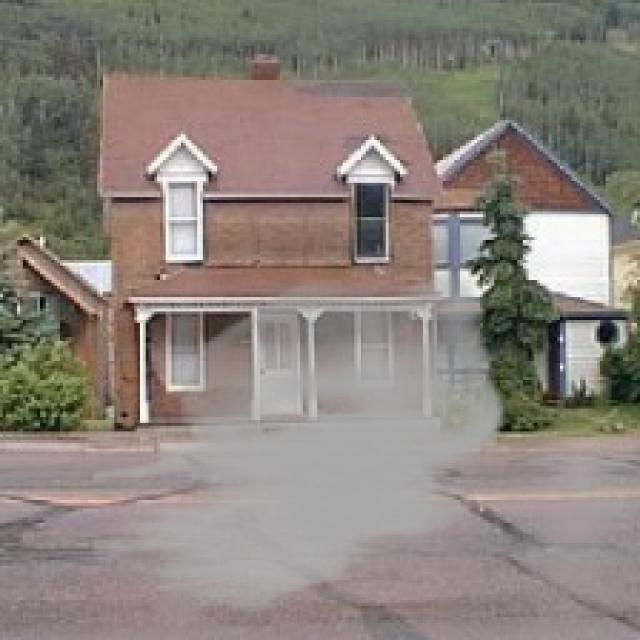smoke: (88, 269, 506, 617)
